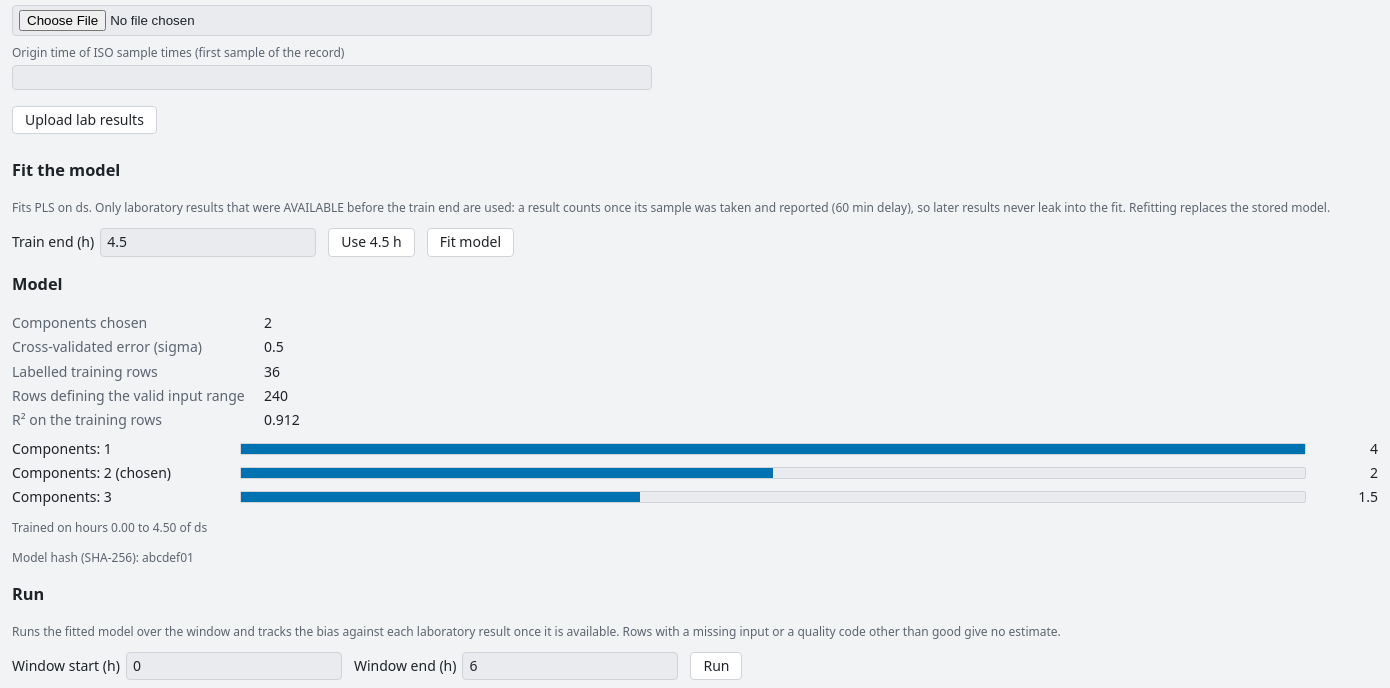
Test: run on the page › explains a stale model
(page scrolled)
Click the button "Run" at (716, 666), box [690,652,742,680]
(page scrolled)
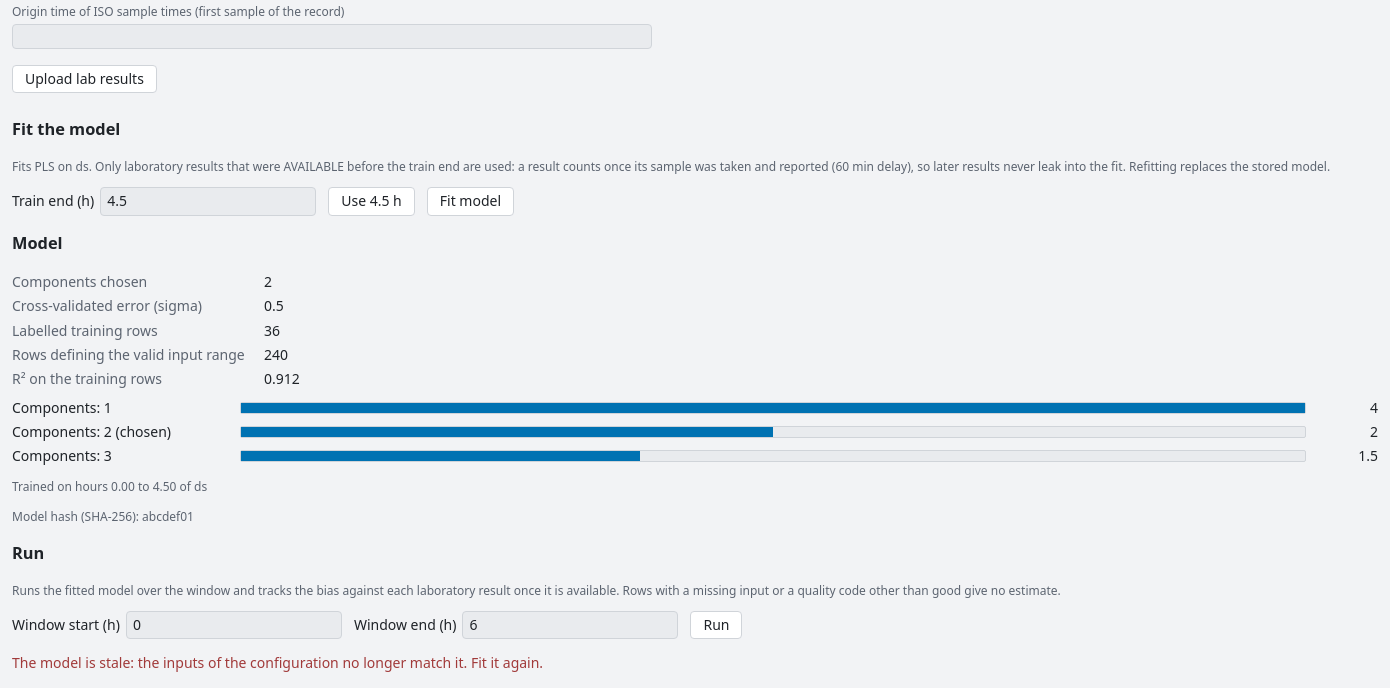
Now the message shows "The model is stale", box [12,653,543,672]
